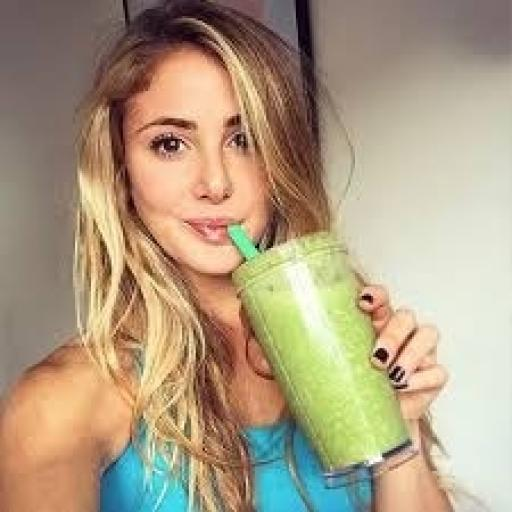drinking: (223, 221, 416, 482)
